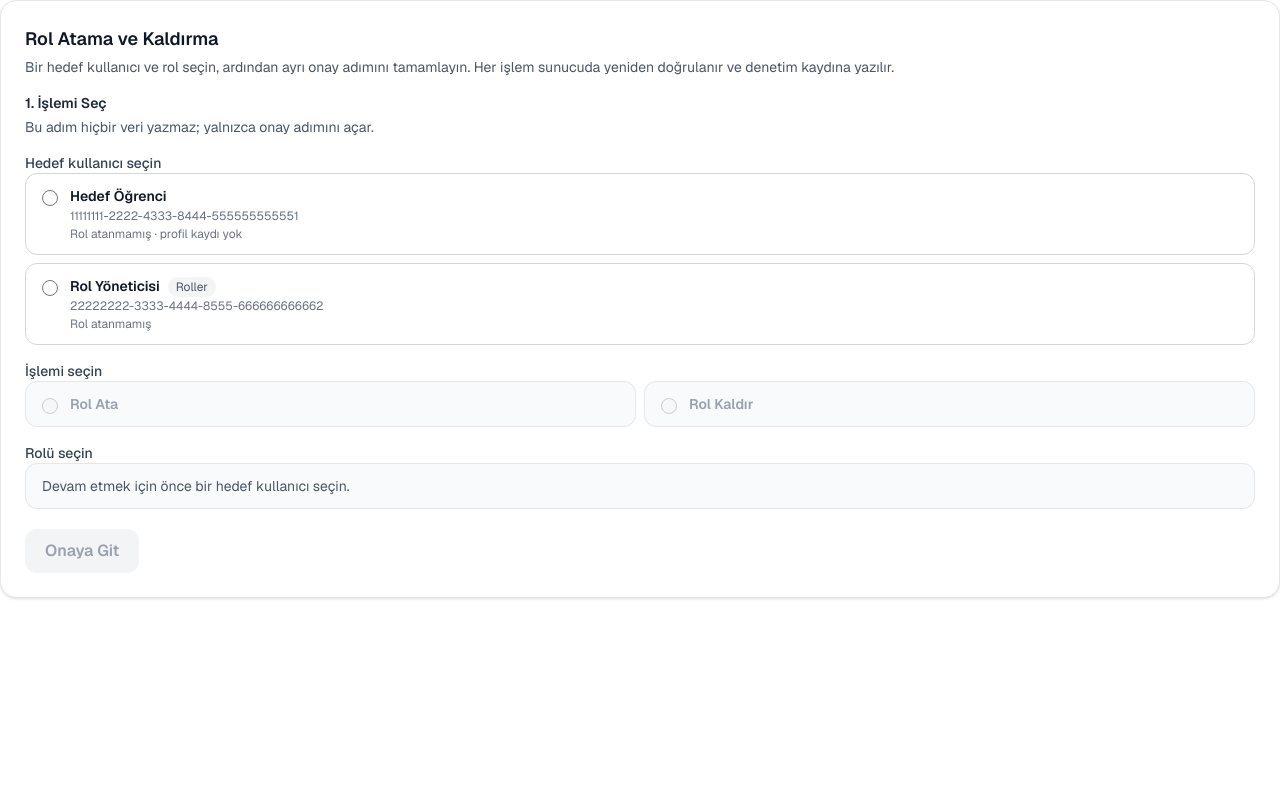
Test case: rol kısıtlamaları › hedefte kaldırılabilecek rol yoksa bilgilendirme gösterilir ve rol kutusu gelmez
What coordinates should you click on to do the following:
click the radio button labelled "Rol Yöneticisi"
I would click on:
 (50, 288)
Its box is [42,280,58,296].
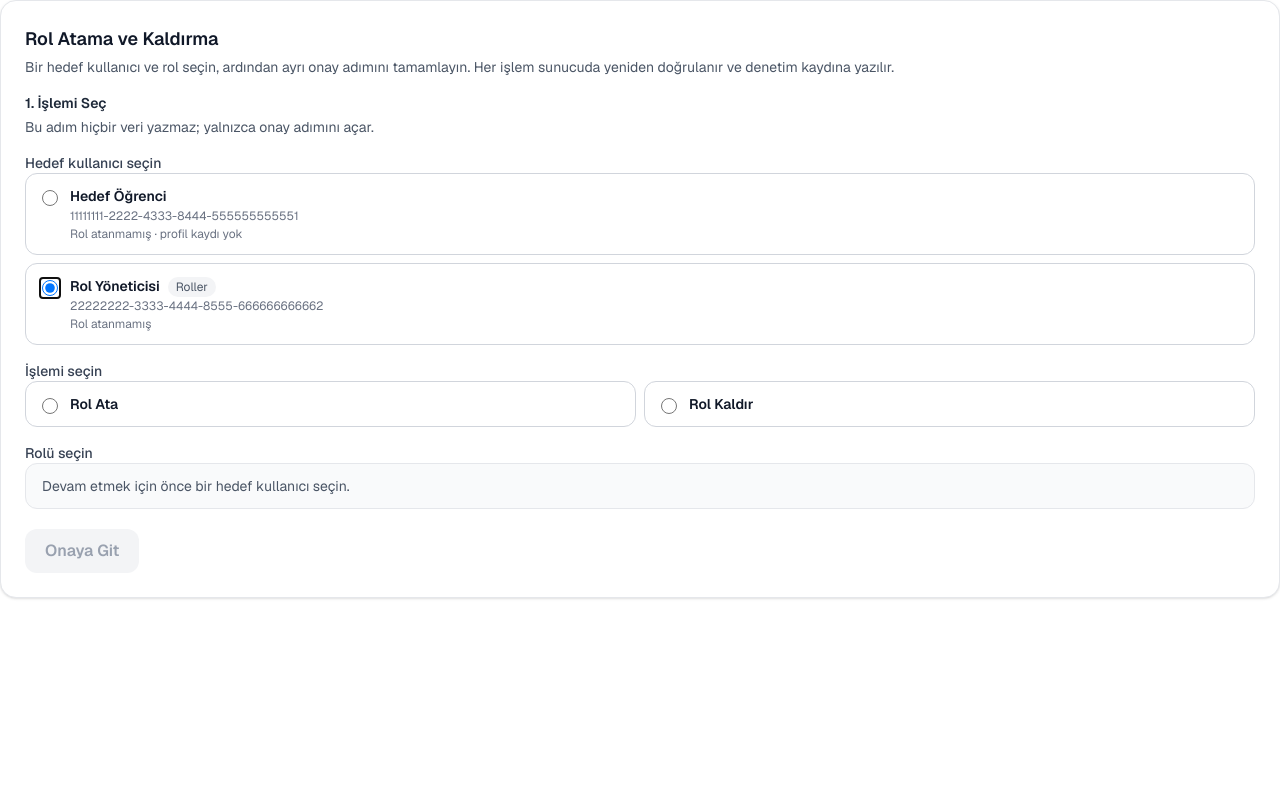
What coordinates should you click on to do the following:
click the radio button labelled "Rol Kaldır"
I would click on:
 (669, 406)
Its box is [661,398,677,414].
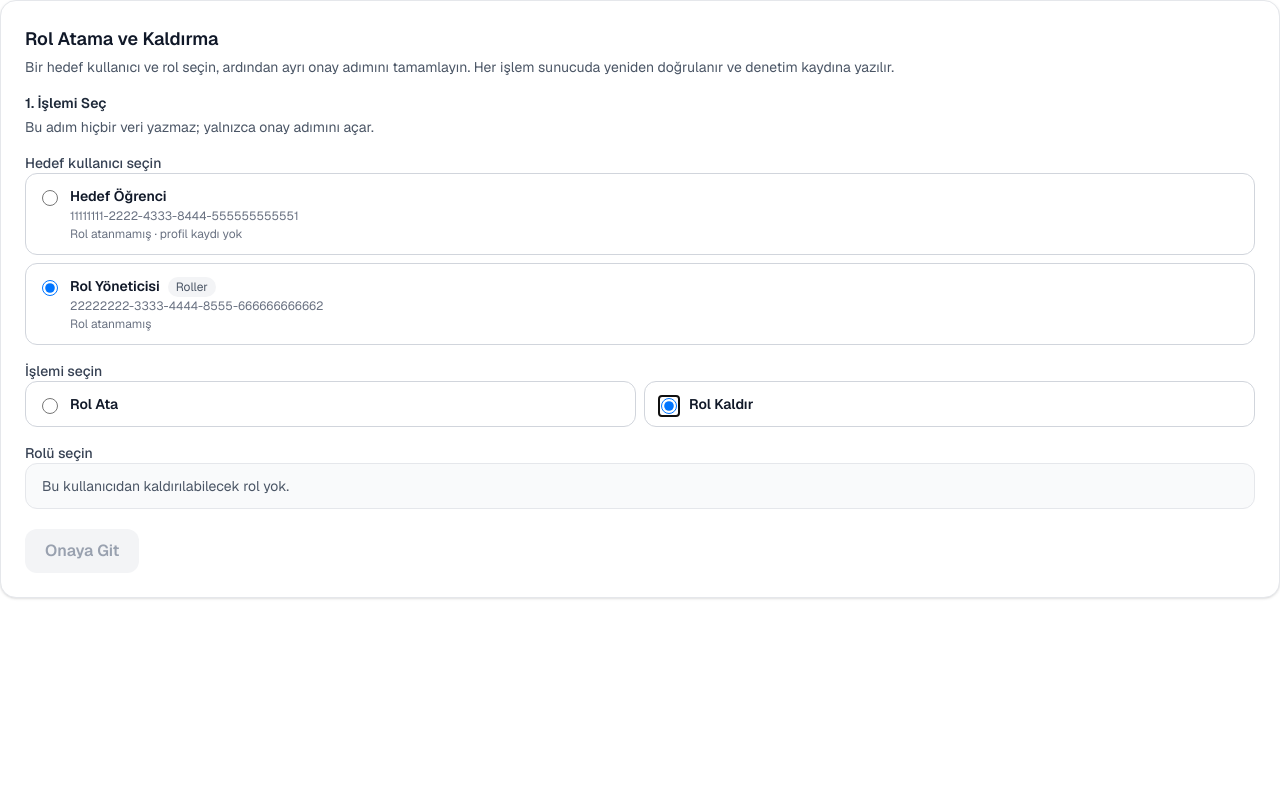
Expected: the text "Bu kullanıcıdan kaldırılabilecek rol yok." is shown, [25,463,1255,509]
